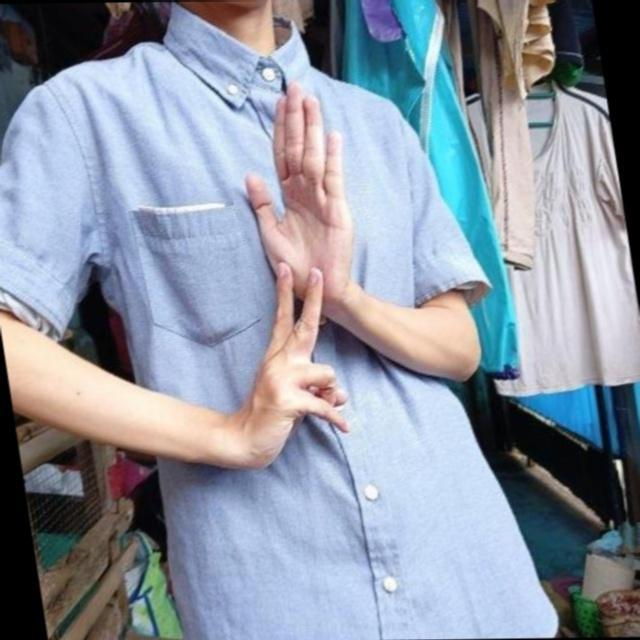N: (238, 73, 366, 364)
